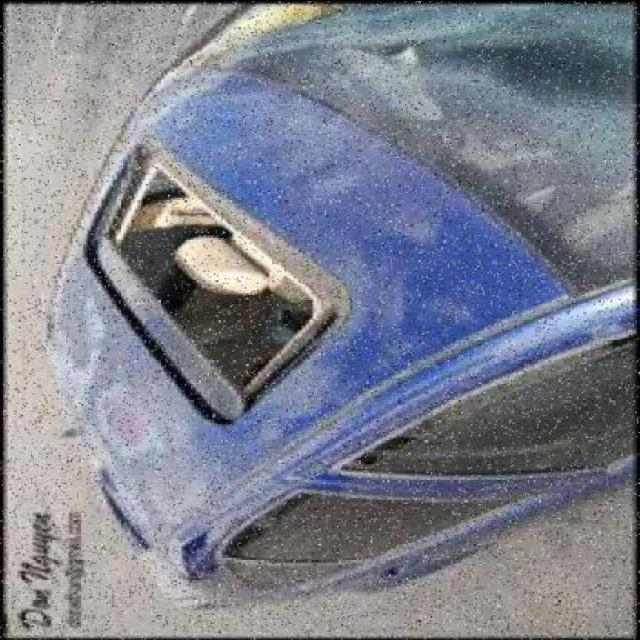roof-dent: (43, 256, 327, 522)
